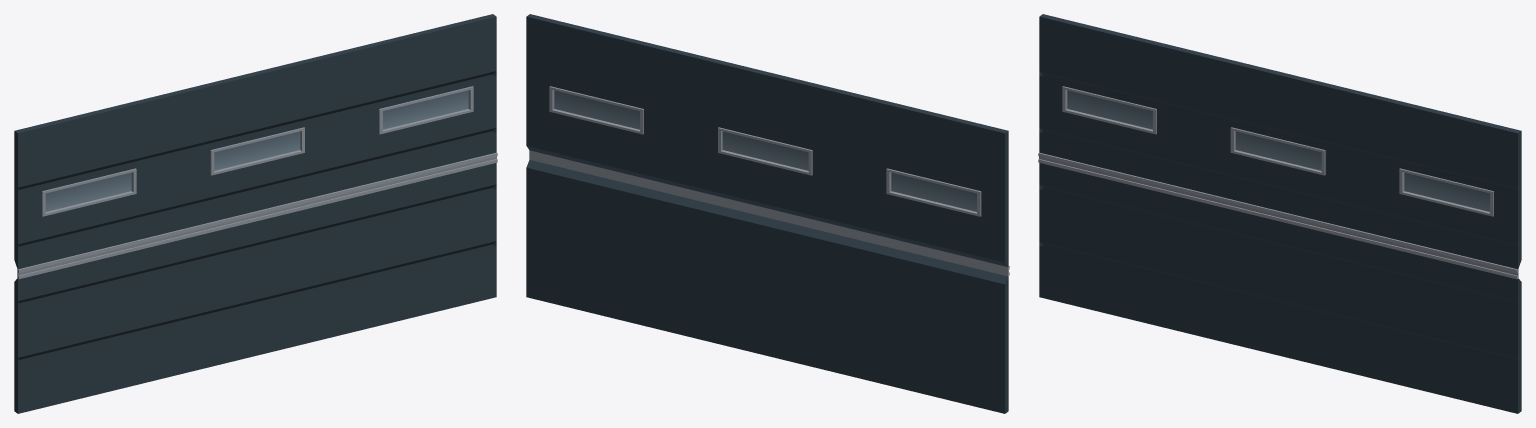
Rendered from SM_Buildings_Port_01_Door_01.fbx.
The picture shows the model from 3 angles, left to right: view 1: azimuth 30°, elevation 25°; view 2: azimuth 150°, elevation 25°; view 3: azimuth 330°, elevation 25°; orthographic projection.
Parts seen in each view (by area): view 1: SM_Buildings_Port_01_Door_01; view 2: SM_Buildings_Port_01_Door_01; view 3: SM_Buildings_Port_01_Door_01.
Boxes of the visible parts, box(x1,y1,x2,y2) form: SM_Buildings_Port_01_Door_01: box(14, 14, 497, 413); SM_Buildings_Port_01_Door_01: box(526, 14, 1009, 413); SM_Buildings_Port_01_Door_01: box(1038, 14, 1521, 413).
Size of the model in its own units: 7.65 by 4.28 by 0.151.
